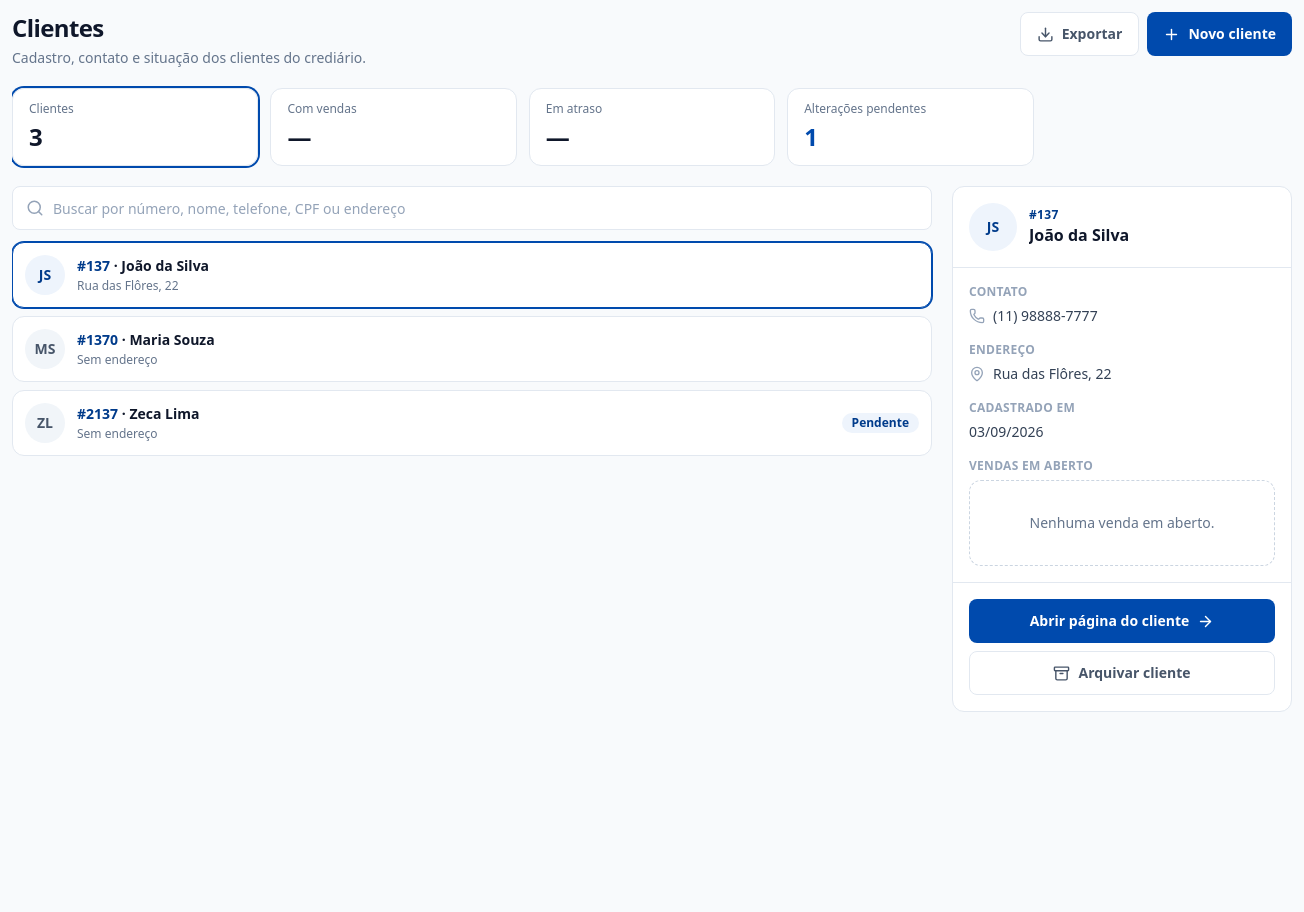
Test: ClientesPage — busca › termo sem dígito não casa por número: texto que não existe não acha ninguém
The image size is (1304, 912).
Type "xyz" into the search field named "Buscar clientes" at [472, 208], box [12, 186, 932, 230]
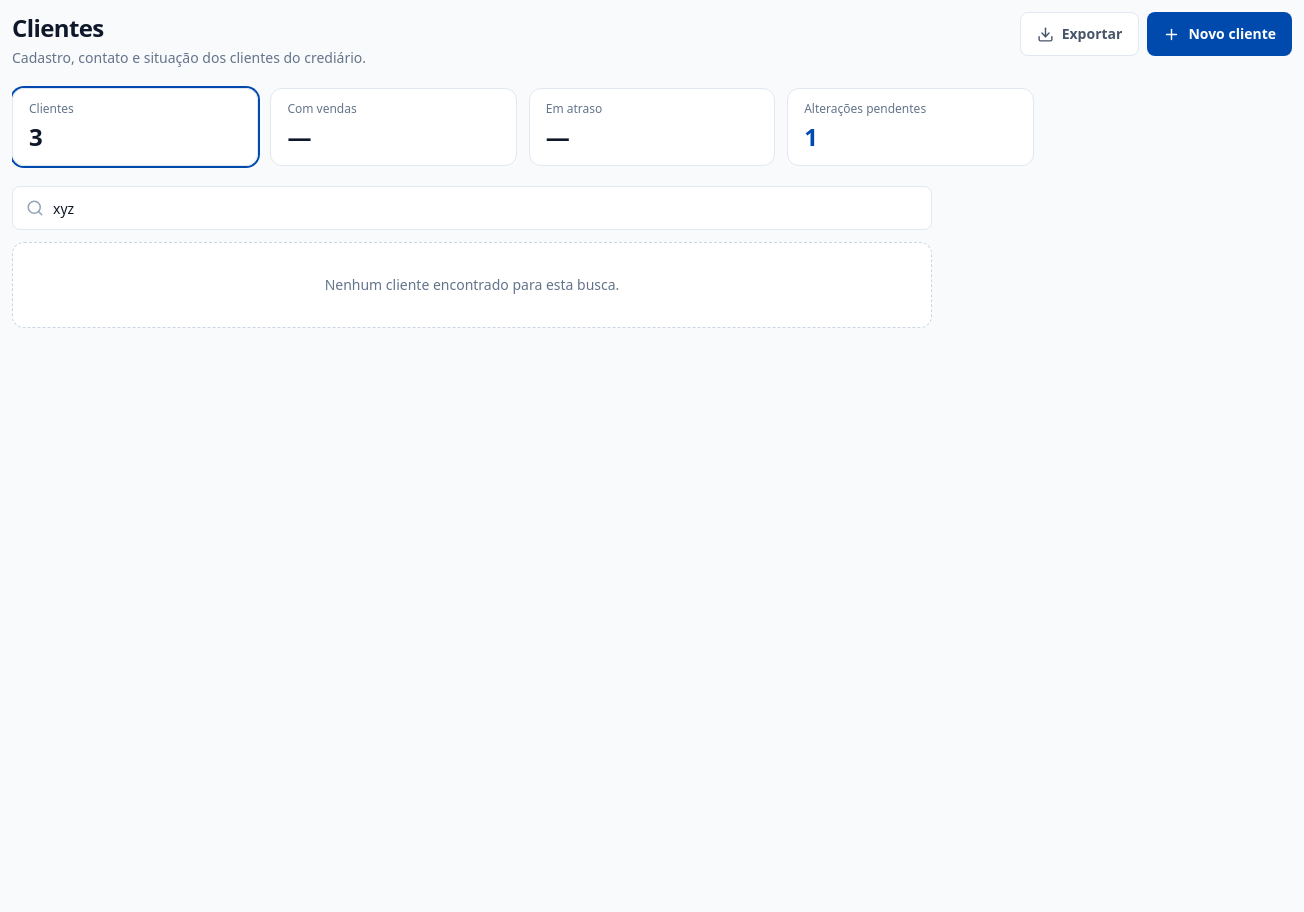
Check: the text "Nenhum cliente encontrado para esta busca." is shown, box [12, 242, 932, 328]
